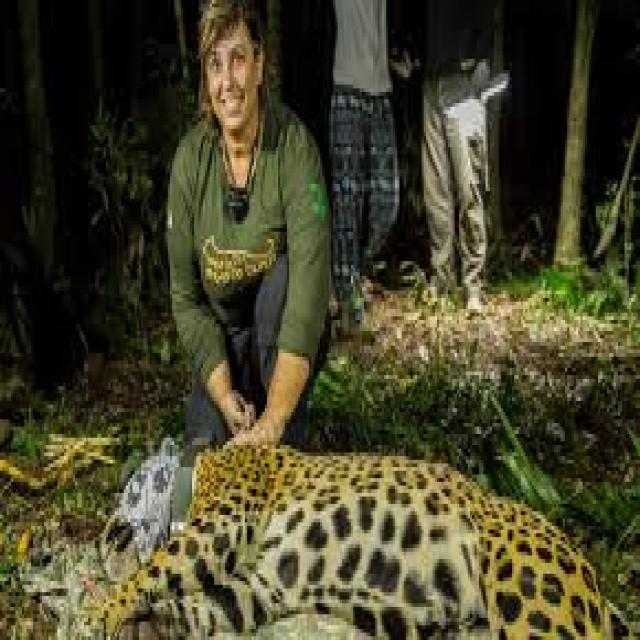Jaguar: (205, 460, 545, 640)
